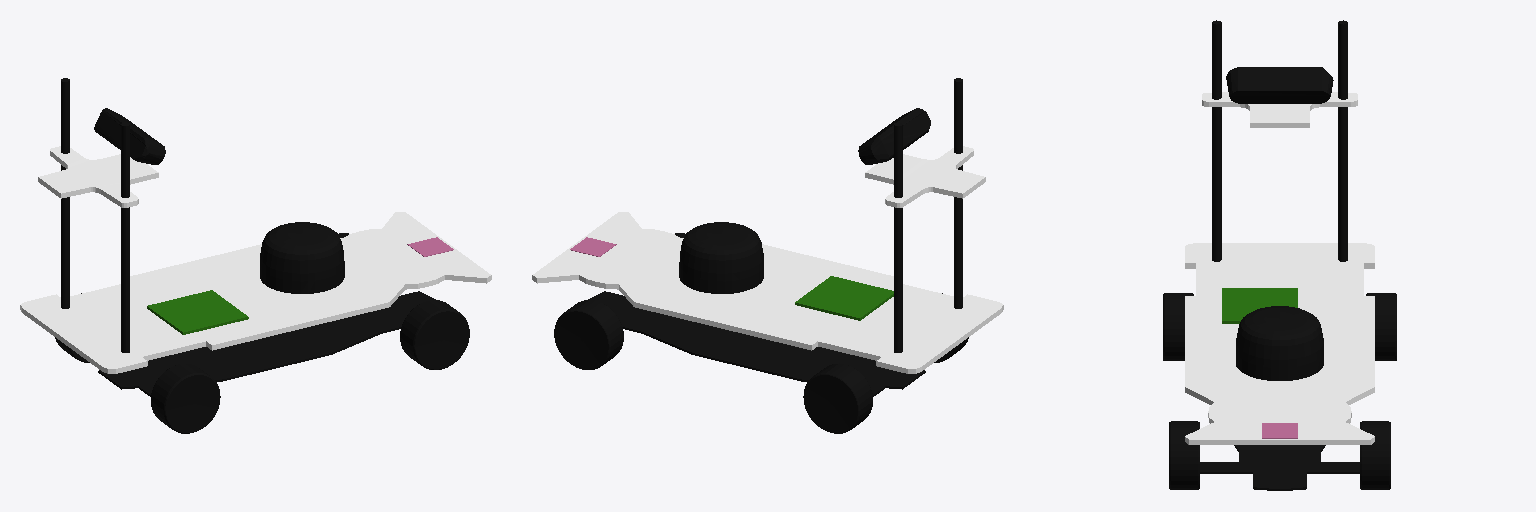
URDF robot description (car):
<?xml version="1.0"?>
<robot name="car">

  <material name="black">
    <color rgba="0.1 0.1 0.1 1"/>
  </material>

  <material name="plastic">
    <color rgba="1 1 1 0.25"/>
  </material>

  <material name="imu">
    <color rgba="0.2 0.5 0.1 1"/>
  </material>

  <material name="grey">
    <color rgba="0.75 0.75 0.75 1"/>
  </material>

  <material name="white">
    <color rgba="0.95 0.95 0.95 1"/>
  </material>		
  
  <link name="base_link">
    <visual>
      <origin rpy="0.0 0 0" xyz="0 0 0.01"/>
      <geometry>
        <mesh filename="package://car_description/meshes/chasi.dae"/>
      </geometry>
      <material name="black"/>
    </visual>
    <collision>
      <origin rpy="0.0 0 0" xyz="0 0 0.01"/>
      <geometry>
        <mesh filename="package://car_description/meshes/chasi.dae"/>
      </geometry>
    </collision>
  </link>

  <link name="board">
    <visual>
      <origin rpy="0.0 0 0" xyz="0 0 0"/>
      <geometry>
        <mesh filename="package://car_description/meshes/board.dae"/>
      </geometry>
      <material name="plastic"/>
    </visual>
    <collision>
      <geometry>
        <mesh filename="package://car_description/meshes/board.dae"/>
      </geometry>
    </collision>
    <inertial>
      <mass value="1.0"/>
      <inertia ixx="0.00213542" ixy="0.0" ixz="0.0" iyy="0.01235417" iyz="0.0" izz="0.01448542"/>
    </inertial>
  </link>

  <link name="camera">
    <visual>
      <origin rpy="-2.0944 0 -1.570796" xyz="0 0 0"/>
      <geometry>
        <mesh filename="package://car_description/meshes/camera.dae"/>
      </geometry>
      <material name="black"/>
    </visual>
    <collision>
      <origin rpy="-2.0944 0 -1.570796" xyz="0 0 0"/>
      <geometry>
        <mesh filename="package://car_description/meshes/camera.dae"/>
      </geometry>
    </collision>
    <inertial>
      <mass value="0.1"/>
      <inertia ixx="0.00001051" ixy="0.0" ixz="0.0" iyy="0.00006385" iyz="0.0" izz="0.00006403"/>
    </inertial>
  </link>

  <link name="camera_board">
    <visual>
      <origin rpy="0.0 0 0" xyz="0 0 0"/>
      <geometry>
        <mesh filename="package://car_description/meshes/camera_board.dae"/>
      </geometry>
      <material name="plastic"/>
    </visual>
    <collision>
      <origin rpy="0.0 0 0" xyz="0 0 0"/>
      <geometry>
        <mesh filename="package://car_description/meshes/camera_board.dae"/>
      </geometry>
    </collision>
    <inertial>
      <origin rpy="0.0 0 0" xyz="0 0 0"/>
      <mass value="0.1"/>
      <inertia ixx="0.00014165" ixy="0.0" ixz="0.0" iyy="0.00006758" iyz="0.0" izz="0.00020865"/>
    </inertial>
  </link>

  <link name="camera_bottom_screw_frame"/>

  <link name="camera_depth_frame"/>

  <link name="laser">
    <visual>
      <origin rpy="0.0 0 0" xyz="0 0 -0.02"/>
      <geometry>
        <mesh filename="package://car_description/meshes/laser.dae"/>
      </geometry>
      <material name="black"/>
    </visual>
    <collision>
       <origin rpy="0.0 0 0" xyz="0 0 -0.02"/>
      <geometry>
        <mesh filename="package://car_description/meshes/laser.dae"/>
      </geometry>
    </collision>
    <inertial>
      <mass value="0.1"/>
      <inertia ixx="0.00005965" ixy="0.0" ixz="0.0" iyy="0.00005759" iyz="0.0" izz="0.00009268"/>
    </inertial>
  </link>

  <link name="wheel_fl">
    <visual>
      <origin rpy="0.0 0 0" xyz="0 0 0"/>
      <geometry>
        <mesh filename="package://car_description/meshes/wheel.dae"/>
      </geometry>
      <material name="black"/>
    </visual>
    <collision>
      <geometry>
        <mesh filename="package://car_description/meshes/wheel.dae"/>
      </geometry>
    </collision>
    <inertial>
      <mass value="0.05"/>
      <inertia ixx="0.00001793" ixy="0.0" ixz="0.0" iyy="0.00002867" iyz="0.0" izz="0.00001813"/>
    </inertial>
  </link>
  <gazebo reference="wheel_fl">
      <minDepth>0.005</minDepth>
      <min_depth>0.005</min_depth>
      <surface>
        <friction>
          <ode>
            <mu>1.0</mu>
            <mu2>1.0</mu2>
            <fdir1>0 0 1</fdir1>
            <slip1>0.0</slip1>
            <slip2>0.0</slip2>
          </ode>
        </friction>
        <contact>
          <ode>
            <soft_cfm>0.000000001</soft_cfm>
            <soft_erp>0.2</soft_erp>
            <kp>1e+10</kp>
            <kd>10</kd>
            <max_vel>0.01</max_vel>
            <min_depth>0.005</min_depth>
          </ode>
        </contact>
      </surface>
  </gazebo>

  <link name="wheel_fr">
    <visual>
      <origin rpy="0.0 0 0" xyz="0 0 0"/>
      <geometry>
        <mesh filename="package://car_description/meshes/wheel.dae"/>
      </geometry>
      <material name="black"/>
    </visual>
    <collision>
      <geometry>
        <mesh filename="package://car_description/meshes/wheel.dae"/>
      </geometry>
    </collision>
    <inertial>
      <mass value="0.05"/>
      <inertia ixx="0.00001793" ixy="0.0" ixz="0.0" iyy="0.00002867" iyz="0.0" izz="0.00001813"/>
    </inertial>
  </link>
  <gazebo reference="wheel_fr">
      <minDepth>0.005</minDepth>
      <min_depth>0.005</min_depth>
      <surface>
        <friction>
          <ode>
            <mu>1.0</mu>
            <mu2>1.0</mu2>
            <fdir1>0 0 1</fdir1>
            <slip1>0.0</slip1>
            <slip2>0.0</slip2>
          </ode>
        </friction>
        <contact>
          <ode>
            <soft_cfm>0.000000001</soft_cfm>
            <soft_erp>0.2</soft_erp>
            <kp>1e+10</kp>
            <kd>10</kd>
            <max_vel>0.01</max_vel>
            <min_depth>0.005</min_depth>
          </ode>
        </contact>
      </surface>
  </gazebo>

  <link name="wheel_bl">
    <visual>
      <origin rpy="0.0 0 0" xyz="0 0 0"/>
      <geometry>
        <mesh filename="package://car_description/meshes/wheel.dae"/>
      </geometry>
      <material name="black"/>
    </visual>
    <collision>
      <geometry>
        <mesh filename="package://car_description/meshes/wheel.dae"/>
      </geometry>
    </collision>
    <inertial>
      <mass value="0.05"/>
      <inertia ixx="0.00001793" ixy="0.0" ixz="0.0" iyy="0.00002867" iyz="0.0" izz="0.00001813"/>
    </inertial>
  </link>
  <gazebo reference="wheel_bl">
      <minDepth>0.005</minDepth>
      <min_depth>0.005</min_depth>
      <surface>
        <friction>
          <ode>
            <mu>1.0</mu>
            <mu2>1.0</mu2>
            <fdir1>0 0 1</fdir1>
            <slip1>0.0</slip1>
            <slip2>0.0</slip2>
          </ode>
        </friction>
        <contact>
          <ode>
            <soft_cfm>0.000000001</soft_cfm>
            <soft_erp>0.2</soft_erp>
            <kp>1e+10</kp>
            <kd>10</kd>
            <max_vel>0.01</max_vel>
            <min_depth>0.005</min_depth>
          </ode>
        </contact>
      </surface>
  </gazebo>

  <link name="wheel_br">
    <visual>
      <origin rpy="0.0 0 0" xyz="0 0 0"/>
      <geometry>
        <mesh filename="package://car_description/meshes/wheel.dae"/>
      </geometry>
      <material name="black"/>
    </visual>
    <collision>
      <geometry>
        <mesh filename="package://car_description/meshes/wheel.dae"/>
      </geometry>
    </collision>
    <inertial>
      <mass value="0.05"/>
      <inertia ixx="0.00001793" ixy="0.0" ixz="0.0" iyy="0.00002867" iyz="0.0" izz="0.00001813"/>
    </inertial>
  </link>
  <gazebo reference="wheel_br">
      <minDepth>0.005</minDepth>
      <min_depth>0.005</min_depth>
      <surface>
        <friction>
          <ode>
            <mu>1.0</mu>
            <mu2>1.0</mu2>
            <fdir1>0 0 1</fdir1>
            <slip1>0.0</slip1>
            <slip2>0.0</slip2>
          </ode>
        </friction>
        <contact>
          <ode>
            <soft_cfm>0.000000001</soft_cfm>
            <soft_erp>0.2</soft_erp>
            <kp>1e+10</kp>
            <kd>10</kd>
            <max_vel>0.01</max_vel>
            <min_depth>0.005</min_depth>
          </ode>
        </contact>
      </surface>
  </gazebo>

  <link name="axis_fl">
    <visual>
      <origin rpy="0.0 0 0" xyz="0 0 0"/>
      <geometry>
        <box size="0.001 0.001 0.001"/>
      </geometry>
      <material name="black"/>
    </visual>
    <collision>
      <geometry>
        <box size="0.001 0.001 0.001"/>
      </geometry>
    </collision>
    <inertial>
      <mass value="0.1"/>
      <inertia ixx="0.00000002" ixy="0.0" ixz="0.0" iyy="0.00000002" iyz="0.0" izz="0.00000002"/>
    </inertial>
  </link>

  <link name="axis_fr">
    <visual>
      <origin rpy="0.0 0 0" xyz="0 0 0"/>
      <geometry>
        <box size="0.001 0.001 0.001"/>
      </geometry>
      <material name="black"/>
    </visual>
    <collision>
      <geometry>
        <box size="0.001 0.001 0.001"/>
      </geometry>
    </collision>
    <inertial>
      <mass value="0.1"/>
      <inertia ixx="0.00000002" ixy="0.0" ixz="0.0" iyy="0.00000002" iyz="0.0" izz="0.00000002"/>
    </inertial>
  </link>

  <link name="imu">
    <visual>
      <geometry>
        <box size="0.066 0.064 0.01"/>
      </geometry>
      <origin rpy="0 0 0" xyz="0 0 0"/> 
      <material name="imu"/>     
    </visual>
    <collision>
      <geometry>
        <box size="0.066 0.064 0.01"/>
      </geometry>
    </collision>
    <inertial>
      <mass value="0.2"/>
      <inertia ixx="0.00006993" ixy="0.0" ixz="0.0" iyy="0.00007427" iyz="0.0" izz="0.00014087"/>
    </inertial>
  </link>

  <link name="marker">
    <visual>
      <geometry>
        <mesh filename="package://car_description/meshes/marker.dae"/>
      </geometry>
      <origin rpy="0 0 1.5708" xyz="0 0 0"/>
          
    </visual>
    <collision>
      <geometry>
        <box size="0.03 0.03 0.000001"/>
      </geometry>
    </collision>
    <inertial>
      <mass value="0.001"/>
      <inertia ixx="0.00000008" ixy="0.0" ixz="0.0" iyy="0.00000008" iyz="0.0" izz="0.00000015"/>
    </inertial>
  </link>

  <link name="support_l">
    <visual>
      <geometry>
        <cylinder length="0.22" radius="0.004"/>
      </geometry>
      <origin rpy="0 0 0" xyz="0 0 0"/>
      <material name="black"/>      
    </visual>
    <collision>
      <geometry>
        <cylinder length="0.22" radius="0.004"/>
      </geometry>
    </collision>
    <inertial>
      <mass value="0.001"/>
      <inertia ixx="0.00000404" ixy="0.0" ixz="0.0" iyy="0.00000404" iyz="0.0" izz="0.00000001"/>
    </inertial>
  </link>

  <link name="support_r">
    <visual>
      <geometry>
        <cylinder length="0.22" radius="0.004"/>
      </geometry>
      <origin rpy="0 0 0" xyz="0 0 0"/>
      <material name="black"/>      
    </visual>
    <collision>
      <geometry>
        <cylinder length="0.22" radius="0.004"/>
      </geometry>
    </collision>
    <inertial>
      <mass value="0.001"/>
      <inertia ixx="0.00000404" ixy="0.0" ixz="0.0" iyy="0.00000404" iyz="0.0" izz="0.00000001"/>
    </inertial>
  </link>

  <link name="bno055">
  </link>

  <joint name="joint_board_to_bno055" type="fixed">
      <parent link="board"/>
      <child link="bno055"/>
      <origin xyz="0.235 0.0 0.023" rpy="0 0 1.5708"/>
  </joint>

  <joint name="base_link_board" type="fixed">
    <parent link="base_link"/>
    <child link="board"/>
    <origin xyz="-0.018 0 0.06"/>
  </joint>

  <joint name="board_cameraboard" type="fixed">
    <parent link="board"/>
    <child link="camera_board"/>
    <origin xyz="-0.160 0 0.15"/>
  </joint>

  <joint name="camera_cameraboard" type="fixed">
    <parent link="camera_board"/>
    <child link="camera"/>
    <origin xyz="0.035 0 0.03"/>
  </joint>

  <joint name="camera_depth" type="fixed">
    <parent link="camera"/>
    <child link="camera_depth_frame"/>
    <origin rpy="-1.57079632679 0 -1.57079632679"/>
  </joint>

  <joint name="camera_joint" type="fixed">
    <origin rpy="0 0 0" xyz="0.035 0 0.03"/>
    <parent link="camera_board"/>
    <child link="camera_bottom_screw_frame"/>
  </joint>

  <joint name="board_laster" type="fixed">
    <parent link="board"/>
    <child link="laser"/>
    <origin rpy="0 0 3.14159" xyz="0.05 0 0.025"/>
  </joint>

    <joint name="board_imu" type="fixed">
    <parent link="board"/>
    <child link="imu"/>
    <origin xyz="-0.06559 -0.017 0"/>
  </joint>

  <joint name="board_marker" type="fixed">
    <parent link="board"/>
    <child link="marker"/>
    <origin xyz="0.18 0 0.0025"/>
  </joint>

  <joint name="frontwheel_steering_left" type="revolute">
    <axis xyz="0 0 1"/>
    <limit effort="1000.0" lower="-0.55" upper="0.55" velocity="2"/>
    <parent link="base_link"/>
    <child link="axis_fl"/>
    <origin xyz="0.12 0.08 0.02"/>
  </joint>

  <joint name="frontwheel_steering_right" type="revolute">
    <axis xyz="0 0 1"/>
    <limit effort="1000.0" lower="-0.55" upper="0.55" velocity="2"/>
    <parent link="base_link"/>
    <child link="axis_fr"/>
    <origin xyz="0.12 -0.08 0.02"/>
  </joint>

  <joint name="frontwheel_left" type="revolute">
    <axis xyz="0 1 0"/>
    <anchor xyz="0 0 0"/>
    <parent link="axis_fl"/>
    <child link="wheel_fl"/>
    <origin xyz="0 0 0"/>
    <limit effort="0.1" lower="-1000000000000.0" upper="1000000000000.0" velocity="124"/>
  </joint>

  <joint name="frontwheel_right" type="revolute">
    <axis xyz="0 1 0"/>
    <parent link="axis_fr"/>
    <child link="wheel_fr"/>
    <origin xyz="0 0 0"/>
    <limit effort="0.1" lower="-1000000000000.0" upper="1000000000000.0" velocity="124"/>
  </joint>

   <joint name="rearwheel_left" type="revolute">
    <axis xyz="0 1 0"/>
    <parent link="base_link"/>
    <child link="wheel_bl"/>
    <origin xyz="-0.135 0.085 0.02"/>
    <limit effort="0.1" lower="-1000000000000.0" upper="1000000000000.0" velocity="124"/>
  </joint>

  <joint name="rearwheel_right" type="revolute">
    <axis xyz="0 1 0"/>
    <parent link="base_link"/>
    <child link="wheel_br"/>
    <origin xyz="-0.135 -0.085 0.02"/>
    <limit effort="0.1" lower="-1000000000000.0" upper="1000000000000.0" velocity="124"/>
  </joint>

  <joint name="board_support_l" type="fixed">
    <parent link="board"/>
    <child link="support_l"/>
    <origin xyz="-0.159000 0.053000 0.112000"/>
  </joint>

  <joint name="board_support_r" type="fixed">
    <parent link="board"/>
    <child link="support_r"/>
    <origin xyz="-0.159000 -0.053000 0.112000"/>
  </joint>

  <transmission name="steering_front_left_wheel">
    <type>transmission_interface/SimpleTransmission</type>
    <joint name="frontwheel_steering_left">
      <hardwareInterface>hardware_interface/EffortJointInterface</hardwareInterface>
    </joint>
    <actuator name="front_left_steering_motor">
      <hardwareInterface>hardware_interface/EffortJointInterface</hardwareInterface>
      <mechanicalReduction>1</mechanicalReduction>
    </actuator>
  </transmission>

  <transmission name="steering_front_right_wheel">
    <type>transmission_interface/SimpleTransmission</type>
    <joint name="frontwheel_steering_right">
      <hardwareInterface>hardware_interface/EffortJointInterface</hardwareInterface>
    </joint>
    <actuator name="front_right_steering_motor">
      <hardwareInterface>hardware_interface/EffortJointInterface</hardwareInterface>
      <mechanicalReduction>1</mechanicalReduction>
    </actuator>
  </transmission>

  <transmission name="tran_front_left_wheel">
    <type>transmission_interface/SimpleTransmission</type>
    <joint name="frontwheel_left">
      <hardwareInterface>hardware_interface/EffortJointInterface</hardwareInterface>
    </joint>
    <actuator name="front_left_wheel_motor">
      <hardwareInterface>hardware_interface/EffortJointInterface</hardwareInterface>
      <mechanicalReduction>1</mechanicalReduction>
    </actuator>
  </transmission>

  <transmission name="tran_front_right_wheel">
    <type>transmission_interface/SimpleTransmission</type>
    <joint name="frontwheel_right">
      <hardwareInterface>hardware_interface/EffortJointInterface</hardwareInterface>
    </joint>
    <actuator name="front_right_wheel_motor">
      <hardwareInterface>hardware_interface/EffortJointInterface</hardwareInterface>
      <mechanicalReduction>1</mechanicalReduction>
    </actuator>
  </transmission>

  <transmission name="tran_rear_left">
    <type>transmission_interface/SimpleTransmission</type>
    <joint name="rearwheel_left">
      <hardwareInterface>hardware_interface/EffortJointInterface</hardwareInterface>
    </joint>
    <actuator name="rear_left_motor">
      <hardwareInterface>hardware_interface/EffortJointInterface</hardwareInterface>
      <mechanicalReduction>1</mechanicalReduction>
    </actuator>
  </transmission>

  <transmission name="tran_rear_right">
    <type>transmission_interface/SimpleTransmission</type>
    <joint name="rearwheel_right">
      <hardwareInterface>hardware_interface/EffortJointInterface</hardwareInterface>
    </joint>
    <actuator name="rear_right_motor">
      <hardwareInterface>hardware_interface/EffortJointInterface</hardwareInterface>
      <mechanicalReduction>1</mechanicalReduction>
    </actuator>
  </transmission>

  <gazebo reference="rearwheel_left">
    <implicitSpringDamper>true</implicitSpringDamper>
  </gazebo>
  <gazebo reference="rearwheel_right">
    <implicitSpringDamper>true</implicitSpringDamper>
  </gazebo>
  <gazebo reference="frontwheel_right">
    <implicitSpringDamper>true</implicitSpringDamper>
  </gazebo>
  <gazebo reference="frontwheel_left">
    <implicitSpringDamper>true</implicitSpringDamper>
  </gazebo>
  <gazebo reference="frontwheel_steering_right">
    <implicitSpringDamper>true</implicitSpringDamper>
  </gazebo>
  <gazebo reference="frontwheel_steering_left">
    <implicitSpringDamper>true</implicitSpringDamper>
  </gazebo>
  <gazebo>
    <plugin filename="libgazebo_ros_control.so" name="gazebo_ros_control">
      <robotNamespace>model_car</robotNamespace>
    </plugin>
  </gazebo>

  <gazebo>
    <plugin name="model_car_ground_truth" filename="libgazebo_ros_p3d.so">
      <frameName>map</frameName>
      <bodyName>base_link</bodyName>
      <topicName>odom_ground_truth</topicName>
      <updateRate>30.0</updateRate>
    </plugin>
  </gazebo>

  <gazebo>
    <plugin filename="libhector_gazebo_ros_imu.so" name="autominy_imu">
      <updateRate>100.0</updateRate>
      <robotNamespace>/</robotNamespace>
      <bodyName>imu</bodyName>
      <frameId>imu</frameId>
      <topicName>sensors/imu</topicName>
      <accelOffset>0 0 0</accelOffset>
      <accelDrift>0.5 0.5 0.5</accelDrift>
      <accelGaussianNoise>0.15 0.15 0.1</accelGaussianNoise>
      <rateOffset>0 0 0</rateOffset>
      <rateDrift>0.0 0.0 0.0</rateDrift>
      <rateGaussianNoise>0.005 0.005 0.0015</rateGaussianNoise>
      <headingOffset>0</headingOffset>
      <headingDrift>0.1</headingDrift>
      <headingGaussianNoise>0.05</headingGaussianNoise>
    </plugin>
  </gazebo>

  <gazebo reference="camera">
    <sensor type="depth" name="camera1">       
      <always_on>1</always_on>
      <visualize>true</visualize>
      <update_rate>30.0</update_rate>
      <camera>
        <pose>0 0 0 0 0.30 0</pose>
        <horizontal_fov>1.59174</horizontal_fov>  
        <image>
          <width>640</width>
          <height>480</height>
          <format>L8</format>
        </image>
        <depth_camera>
        </depth_camera>
        <clip>
          <near>0.01</near>
          <far>50.0</far>
        </clip>
        <noise>
          <type>gaussian</type>
          <mean>0.0</mean>
          <stddev>0.007</stddev>
        </noise>
      </camera>
      <plugin name="camera_controller" filename="libgazebo_ros_openni_kinect.so">
        <alwaysOn>true</alwaysOn>
        <updateRate>30.0</updateRate>
        <cameraName>sensors/camera</cameraName>
        <frameName>camera_depth_optical_frame</frameName>                   
        <imageTopicName>infra1/image_rect_raw</imageTopicName>
        <cameraInfoTopicName>infra1/camera_info</cameraInfoTopicName>
        <depthImageTopicName>depth/image_rect_raw</depthImageTopicName>
        <pointCloudTopicName>depth/points</pointCloudTopicName>
        <depthImageCameraInfoTopicName>depth/camera_info</depthImageCameraInfoTopicName>            
        <pointCloudCutoff>0.4</pointCloudCutoff>                
        <hackBaseline>0.007</hackBaseline>
        <CxPrime>0.0</CxPrime>
        <Cx>0.0</Cx>
        <Cy>0.0</Cy>
        <focalLength>0.0</focalLength>
        <noise>
          <type>gaussian</type>
          <mean>0.0</mean>
          <stddev>0.01</stddev>
        </noise>
      </plugin>
    </sensor>
  </gazebo>

  <gazebo reference="camera">
    <sensor type="camera" name="camera2">
      <update_rate>30.0</update_rate>
      <camera>
        <pose>0 0 0 0 0.30 0</pose>
        <horizontal_fov>0.7417649</horizontal_fov>
        <image>
          <width>640</width>
          <height>480</height>
          <format>R8G8B8</format>
        </image>
        <clip>
          <near>0.01</near>
          <far>50.0</far>
        </clip>
        <noise>
          <type>gaussian</type>
          <mean>0.0</mean>
          <stddev>0.01</stddev>
        </noise>
      </camera>
      <plugin name="camera_controller2" filename="libgazebo_ros_camera.so">
        <alwaysOn>true</alwaysOn>
        <updateRate>0.0</updateRate>
        <cameraName>sensors/camera/color</cameraName>
        <imageTopicName>image_rect_color</imageTopicName>
        <cameraInfoTopicName>camera_info</cameraInfoTopicName>
        <frameName>camera</frameName>
        <hackBaseline>0.0193</hackBaseline>
        <distortionK1>0.0</distortionK1>
        <distortionK2>0.0</distortionK2>
        <distortionK3>0.0</distortionK3>
        <distortionT1>0.0</distortionT1>
        <distortionT2>0.0</distortionT2>
      </plugin>
    </sensor>
  </gazebo>

  <gazebo reference="laser">
    <sensor type="ray" name="rp_lidar_sensor">
      <pose>0 0 0 0 0 0</pose>
      <visualize>false</visualize>
      <update_rate>10</update_rate>
      <ray>
        <scan>
          <horizontal>
            <samples>360</samples>
            <min_angle>-3.14159</min_angle>
            <max_angle>3.14159</max_angle>
          </horizontal>
        </scan>
        <range>
          <min>0.15</min>
          <max>6.0</max>
          <resolution>0.05</resolution>
        </range>
        <noise>
          <type>gaussian</type>
          <mean>0.0</mean>
          <stddev>0.01</stddev>
        </noise>
      </ray>
      <plugin name="gazebo_ros_head_hokuyo_controller" filename="libgazebo_ros_laser.so">
        <topicName>/sensors/rplidar/scan</topicName>
        <frameName>laser</frameName>
      </plugin>
    </sensor>
  </gazebo>
  <gazebo reference="wheel_fl">
    <mu1>1.34</mu1>
    <mu2>1.34</mu2>  
  </gazebo>
  <gazebo reference="wheel_fr">
    <mu1>1.34</mu1>
    <mu2>1.34</mu2>  
  </gazebo>
  <gazebo reference="wheel_br">
    <mu1>1.34</mu1>
    <mu2>1.34</mu2>  
  </gazebo>
  <gazebo reference="wheel_bl">
    <mu1>1.34</mu1>
    <mu2>1.34</mu2>  
  </gazebo>

  <gazebo reference="support_r">
    <material>Gazebo/Black</material>
  </gazebo>

  <gazebo reference="support_l">
    <material>Gazebo/Black</material>
  </gazebo>
</robot>

--- Render facts (derived) ---
3 views of the same robot in one strip: view 1: azimuth 30°, elevation 25°; view 2: azimuth 150°, elevation 25°; view 3: azimuth 270°, elevation 25° (orthographic).
Robot: car — 18 links, 17 joints (6 revolute, 11 fixed); root link base_link; default pose: all joints at 0.
Visible links, largest first — view 1: board, base_link, laser, wheel_fr, wheel_br, camera_board, imu, support_r, camera, support_l; view 2: board, base_link, laser, wheel_fl, wheel_bl, camera_board, imu, support_l, camera, support_r; view 3: board, laser, base_link, camera, support_l, support_r, camera_board, wheel_fl, wheel_fr, imu, wheel_bl, wheel_br (+1 smaller).
Link boxes in pixels (left/top/right/bottom): board: left=20, top=212, right=491, bottom=373; base_link: left=98, top=291, right=435, bottom=396; laser: left=260, top=222, right=344, bottom=293; wheel_fr: left=400, top=300, right=469, bottom=369; wheel_br: left=151, top=363, right=220, bottom=433; camera_board: left=38, top=146, right=158, bottom=207; imu: left=147, top=290, right=248, bottom=334; support_r: left=121, top=122, right=129, bottom=352; camera: left=94, top=108, right=165, bottom=164; support_l: left=61, top=78, right=69, bottom=308; board: left=532, top=212, right=1003, bottom=373; base_link: left=588, top=291, right=925, bottom=396; laser: left=679, top=222, right=763, bottom=293; wheel_fl: left=554, top=300, right=623, bottom=369; wheel_bl: left=803, top=363, right=872, bottom=433; camera_board: left=865, top=146, right=985, bottom=207; imu: left=795, top=276, right=893, bottom=320; support_l: left=894, top=122, right=902, bottom=352; camera: left=858, top=108, right=930, bottom=164; support_r: left=954, top=78, right=962, bottom=308; board: left=1185, top=243, right=1374, bottom=444; laser: left=1236, top=306, right=1323, bottom=380; base_link: left=1200, top=445, right=1359, bottom=490; camera: left=1226, top=67, right=1333, bottom=103; support_l: left=1338, top=20, right=1347, bottom=261; support_r: left=1212, top=20, right=1221, bottom=261; camera_board: left=1202, top=92, right=1357, bottom=127; wheel_fl: left=1360, top=421, right=1390, bottom=489; wheel_fr: left=1169, top=421, right=1199, bottom=489; imu: left=1222, top=288, right=1297, bottom=323; wheel_bl: left=1366, top=293, right=1396, bottom=360; wheel_br: left=1163, top=293, right=1193, bottom=360.
Bounding box of the posed robot: 0.4031 × 0.196 × 0.2908 m (x, y, z).
10 mesh visuals loaded from 7 distinct referenced files (7 Collada DAE).
